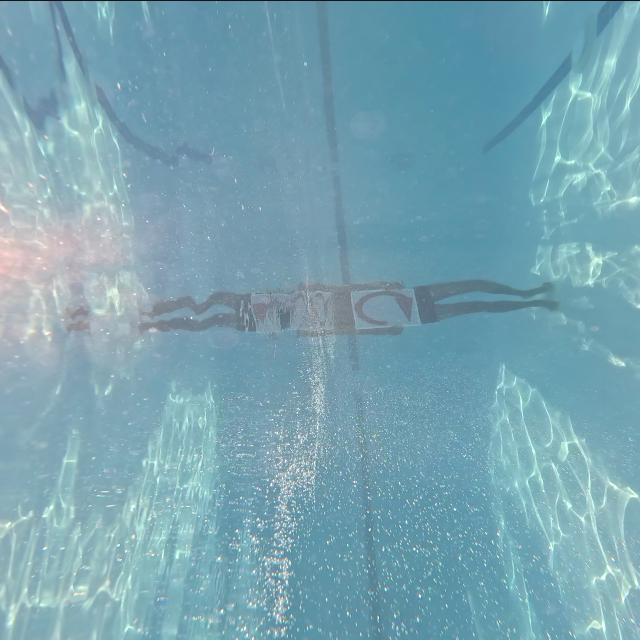red_side: (354, 288, 420, 328)
